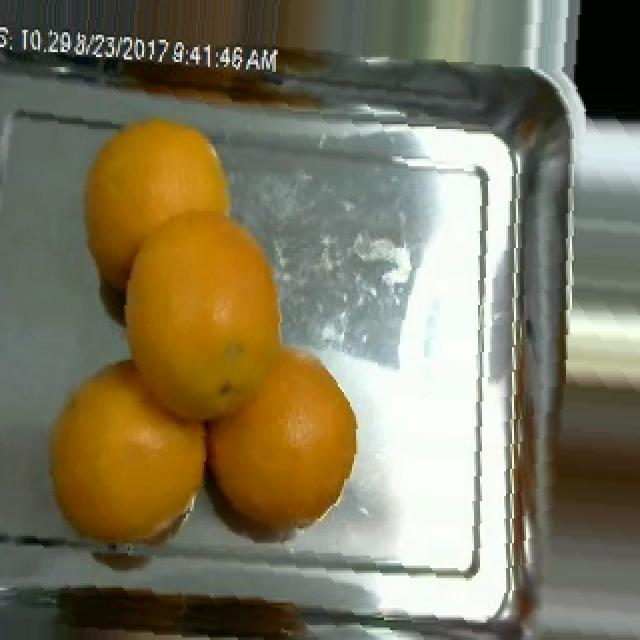Fruit: (564, 0, 640, 131)
